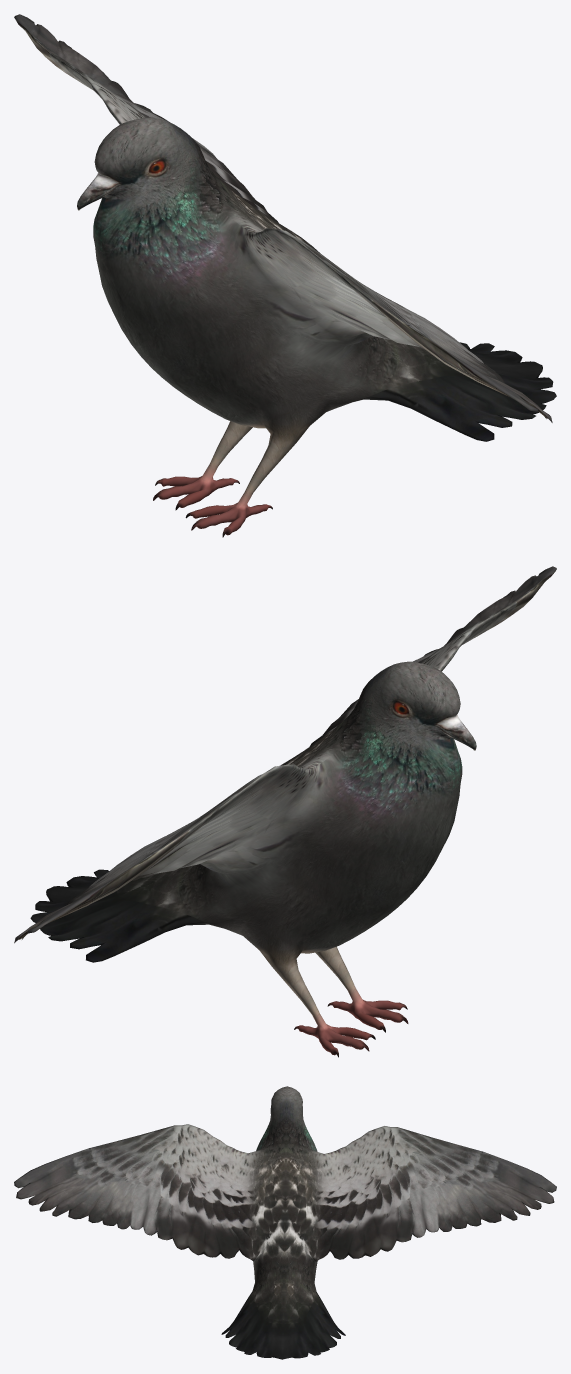
File: pigeon01_R.fbx
3 views of the same model, one above another, from view 1: azimuth 30°, elevation 25°; view 2: azimuth 150°, elevation 25°; view 3: azimuth 270°, elevation 25° (orthographic). The views are drawn at different scales.
Parts seen in each view (by area): view 1: pigeon01__1_; view 2: pigeon01__1_; view 3: pigeon01__1_.
Boxes of the visible parts, bbox=[...] form: pigeon01__1_: bbox=[14, 14, 556, 537]; pigeon01__1_: bbox=[14, 566, 556, 1057]; pigeon01__1_: bbox=[14, 1086, 556, 1359].
Bounding box in the file's own units: 1640 × 1377 × 3297.
